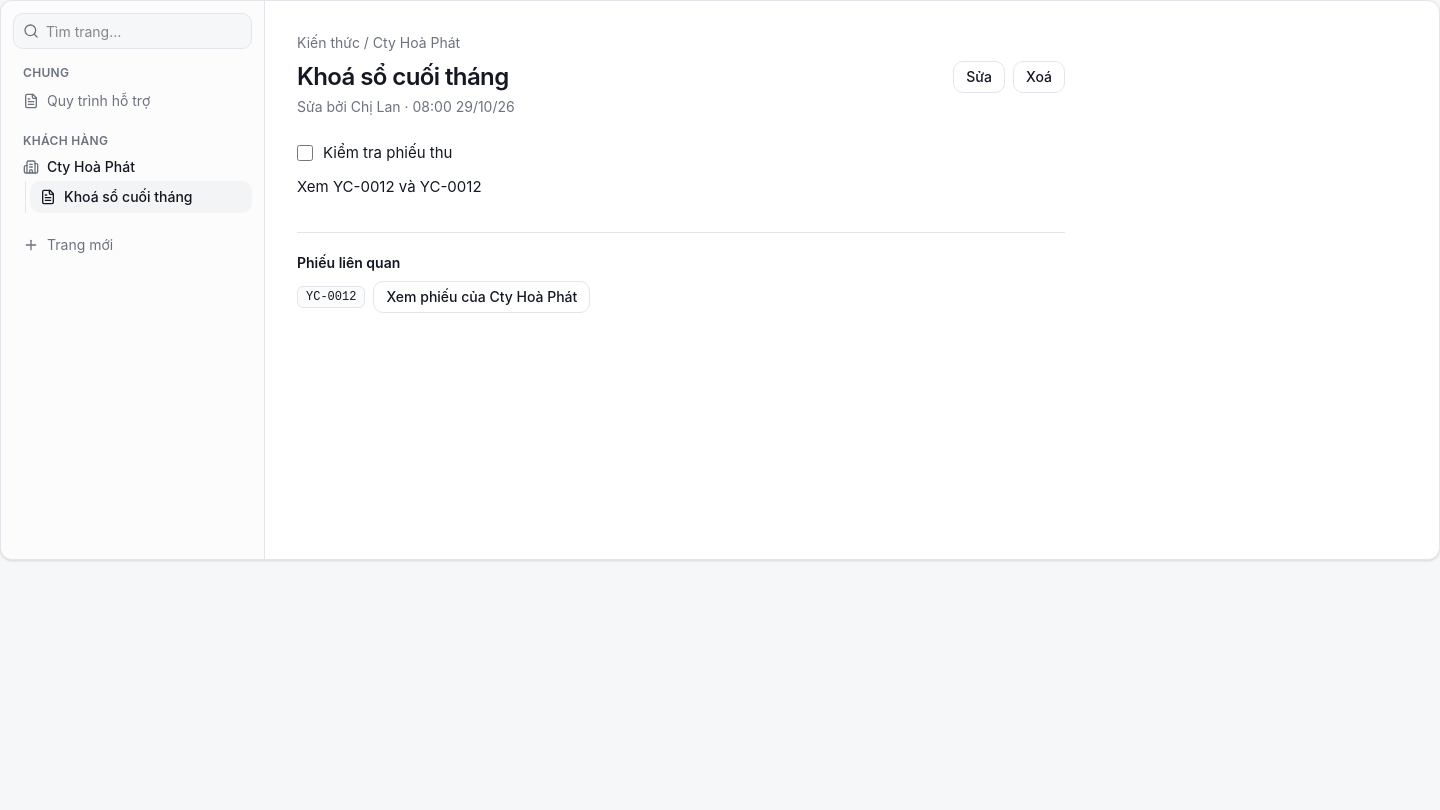
it: creates a page and shows it in the tree
Expected: the heading "Khoá sổ cuối tháng" is shown, [297,61,509,93]
Click the button "Trang mới".
click(132, 245)  # box [13,229,252,261]
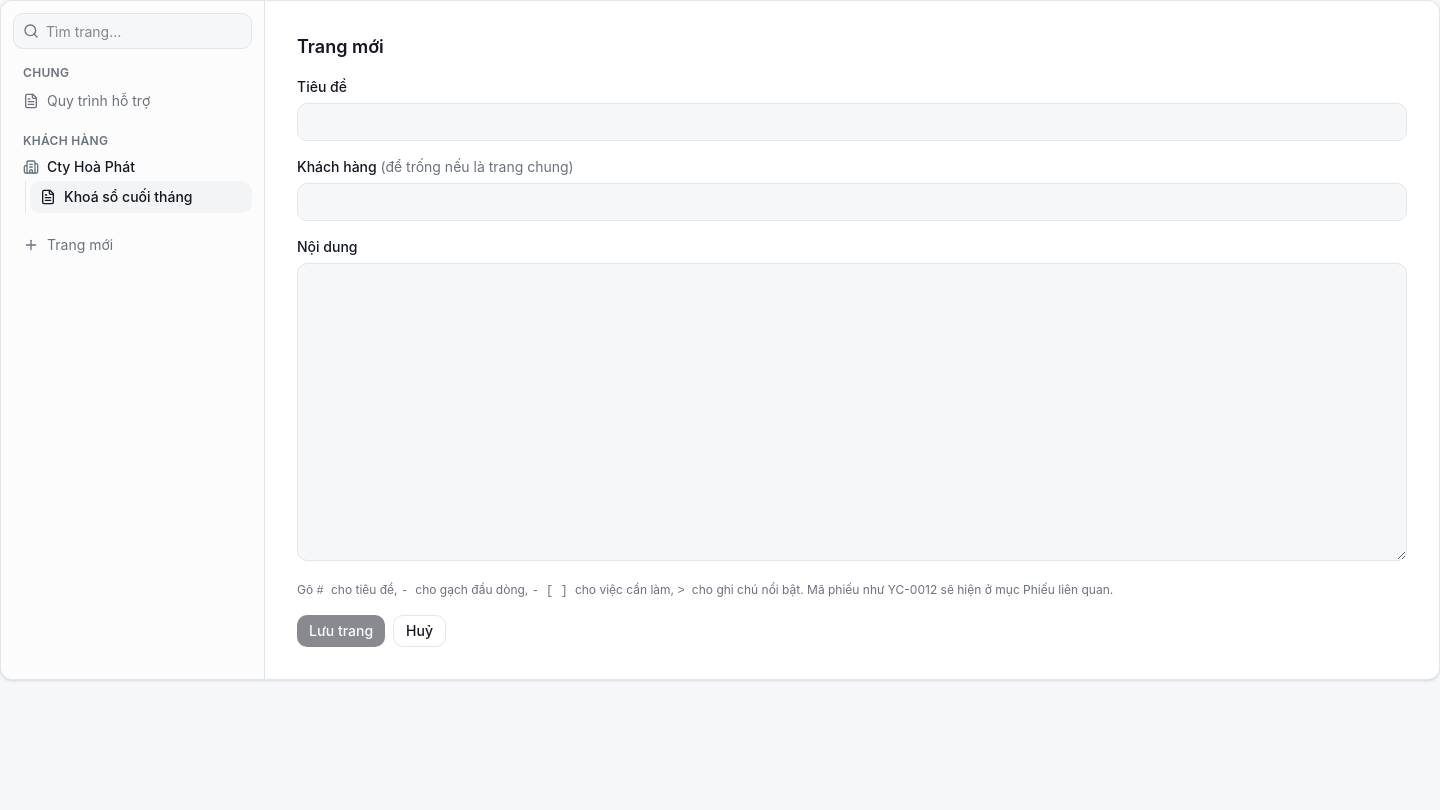
Type "  Trang mới A " into the field labelled "Tiêu đề".
click(852, 122); type("  Trang mới A ")  # box [297,103,1407,141]
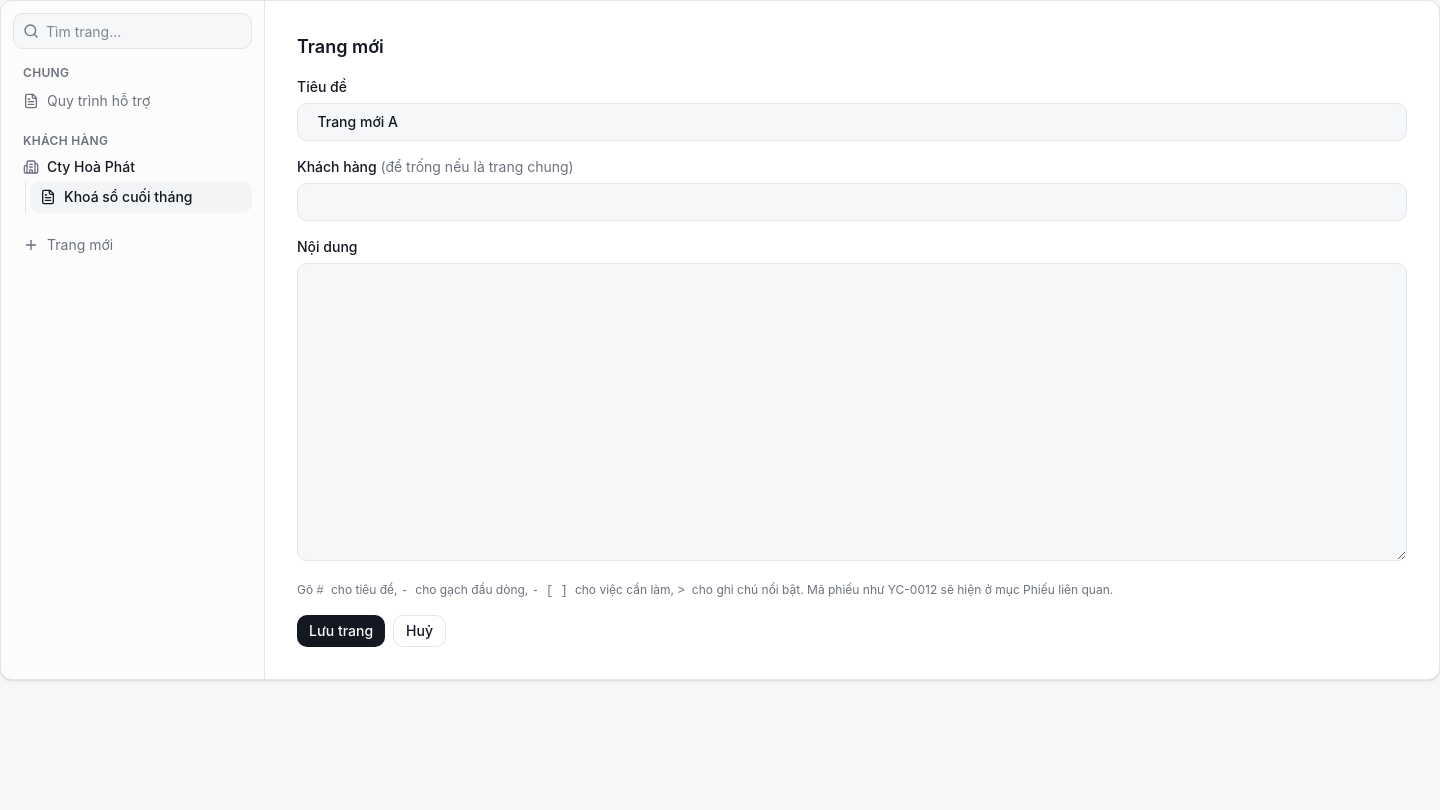
Type "Nội dung" into the text box labelled "Nội dung".
click(852, 412); type("Nội dung")  # box [297,263,1407,561]
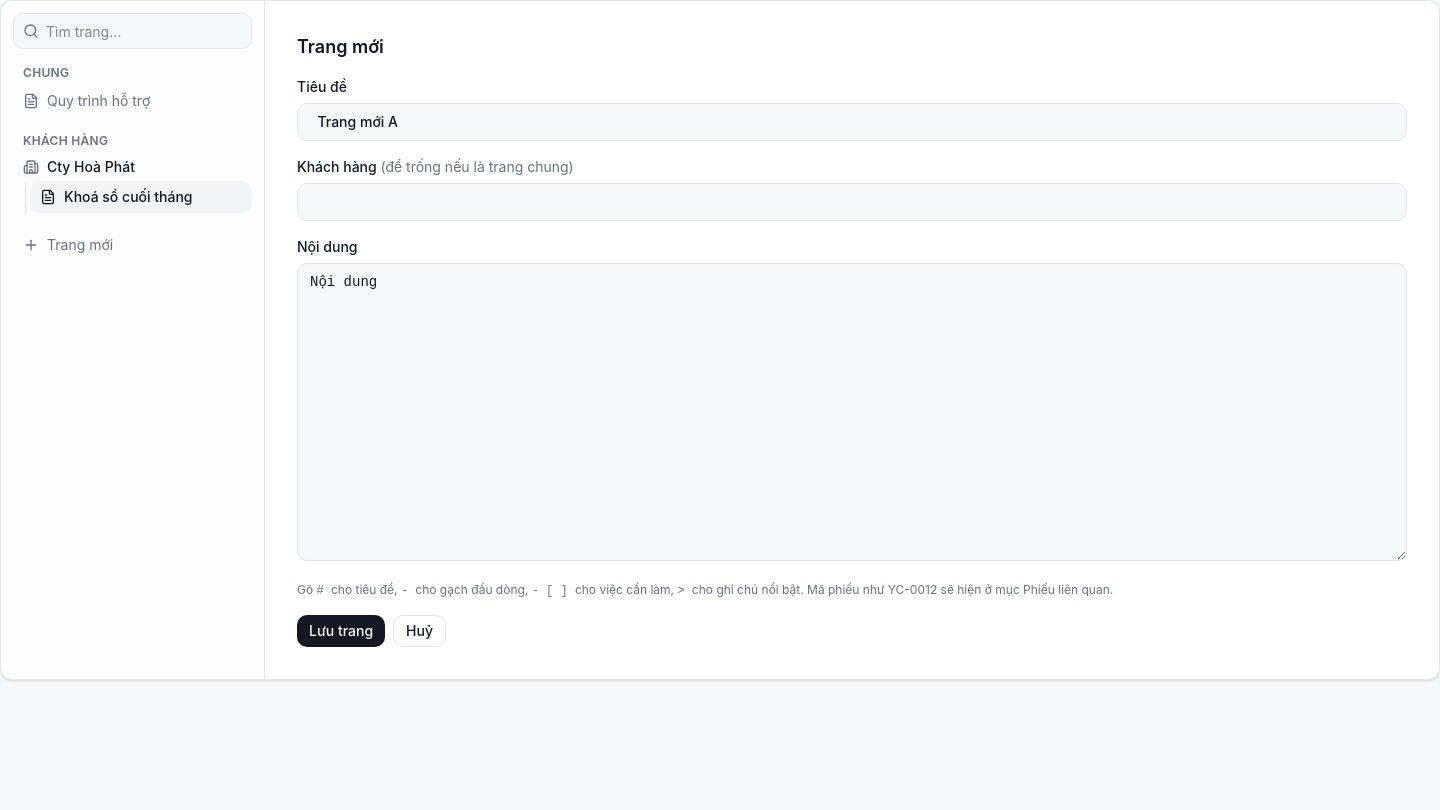
Click the button "Lưu trang".
click(341, 631)  # box [297,615,385,647]
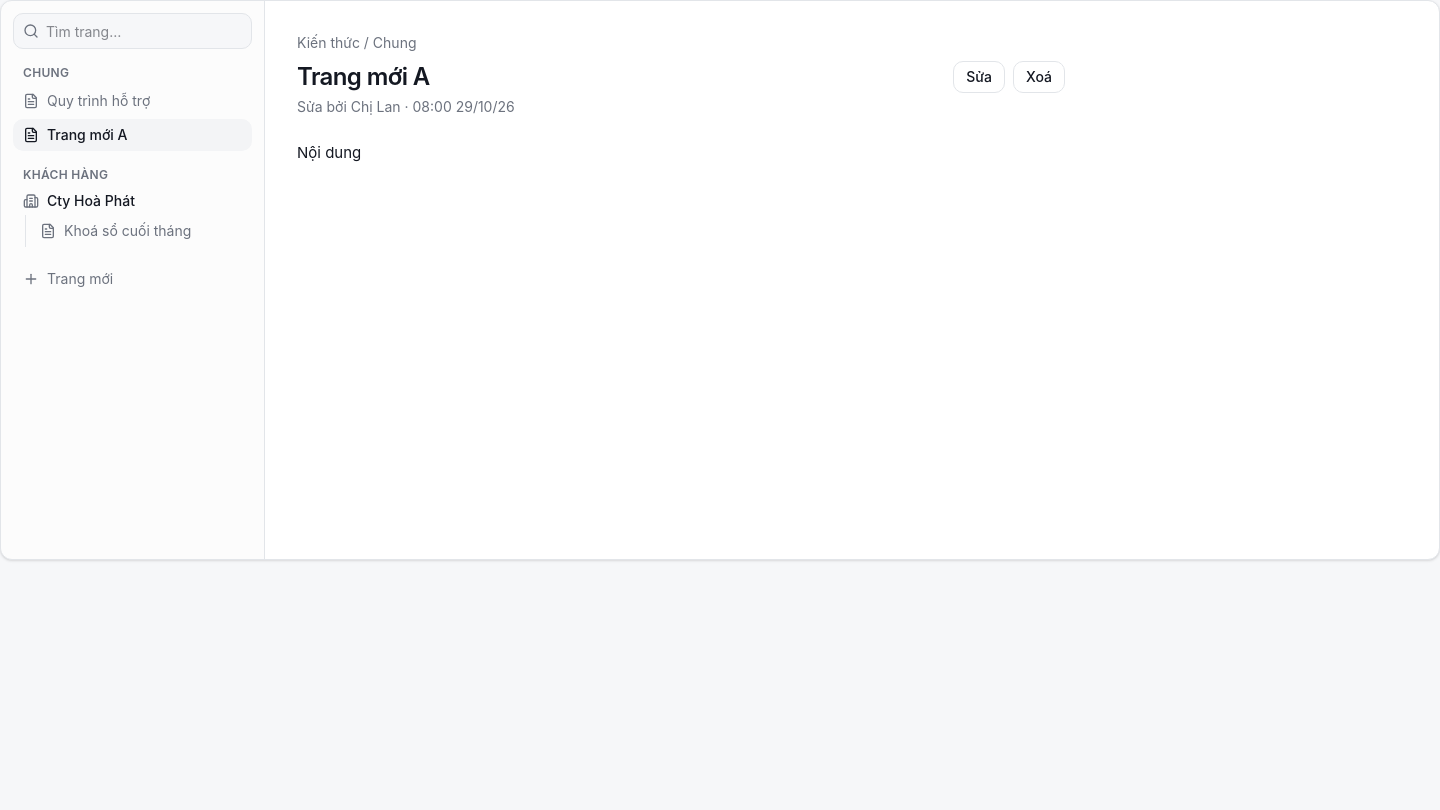
Expected: the heading "Trang mới A" is shown, [297,61,430,93]
Expected: the button "Trang mới A" is shown, [13,119,252,151]
